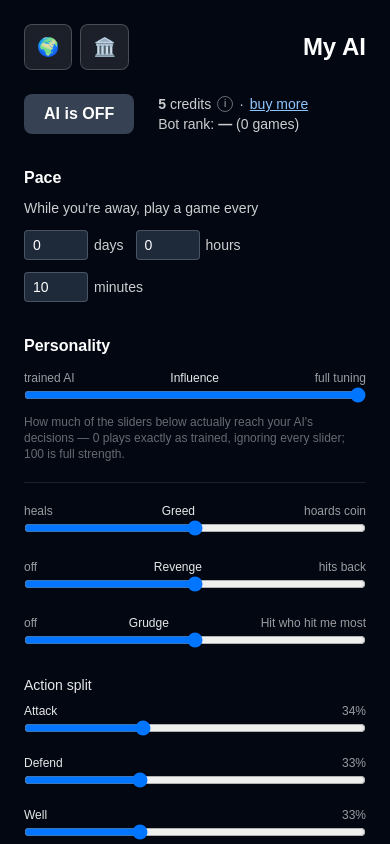
MyAiPage › surfaces the "no credits" toggle reason without erroring
The width and height of the screenshot is (390, 844).
Click the button "AI is OFF" at (79,114), box [24,94,134,134]
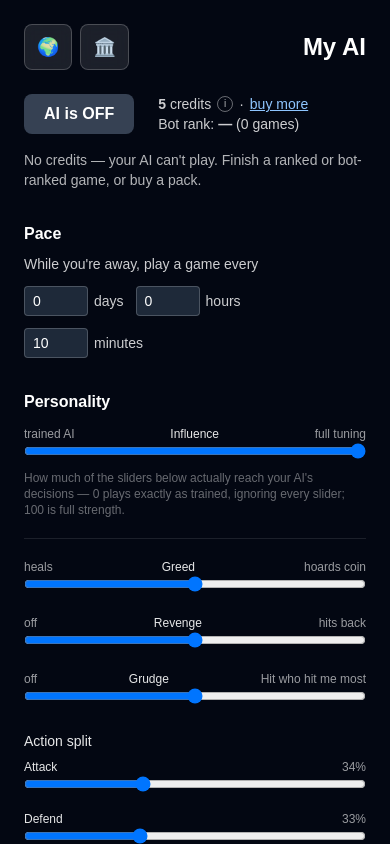
Expected: the text "No credits" is shown, [24,152,362,188]
